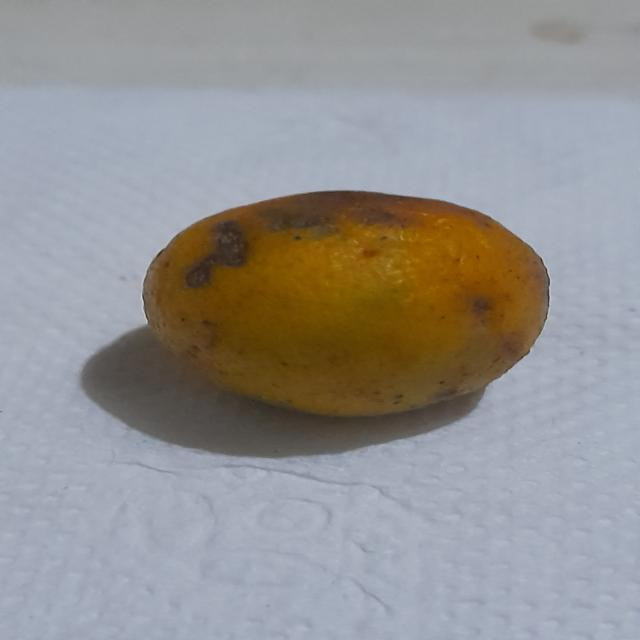black spot: (135, 187, 551, 422)
